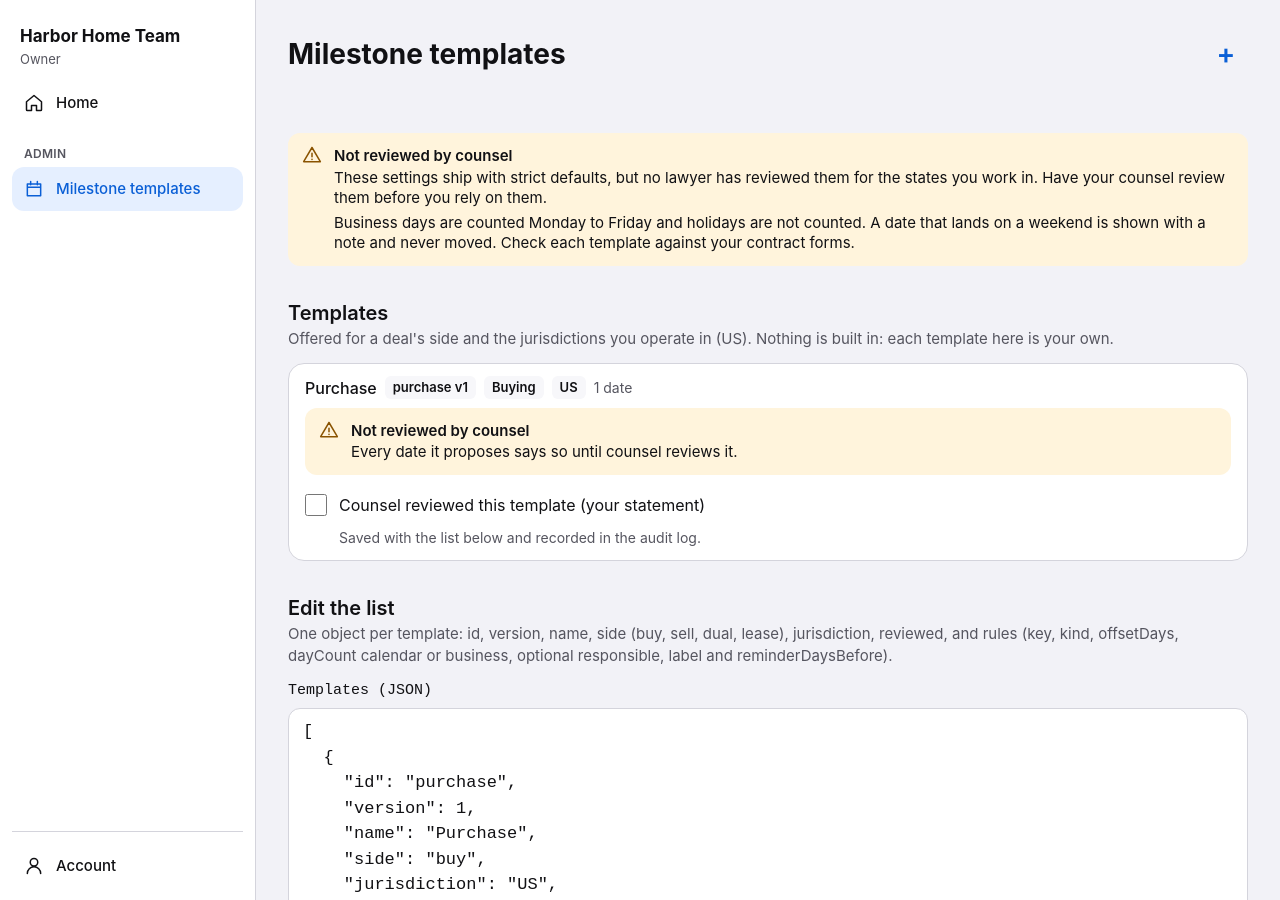
Test: milestone templates page › R-AUDIT-5: the counsel statement is a checkbox saved with the list; a refusal lists the bad entries and saves nothing
Click the checkbox labelled "Counsel reviewed this template (your statement)". click: (316, 505)
box: [305,494,327,516]
(page scrolled)
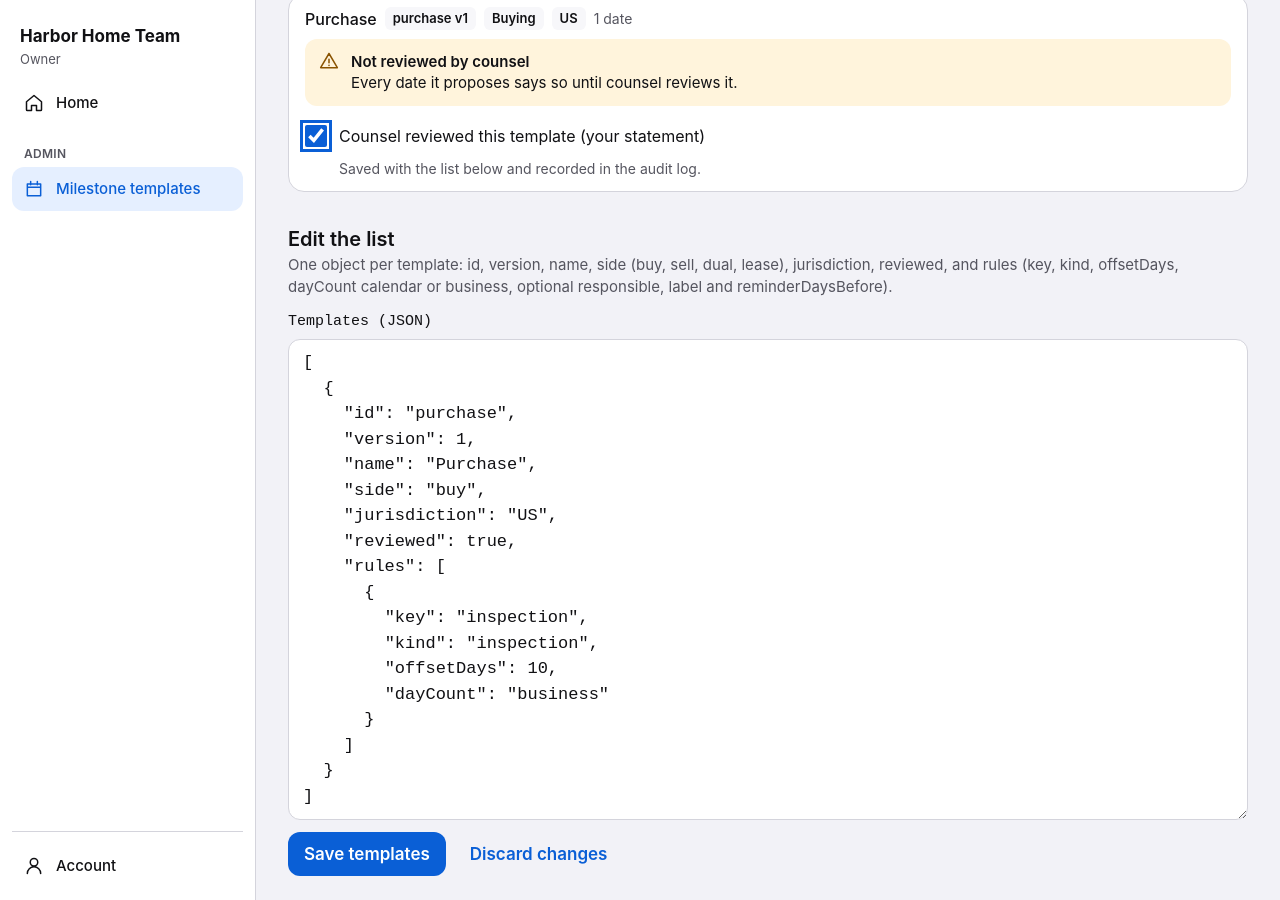
Click the button "Save templates". click: (367, 854)
box: [288,832,446,876]
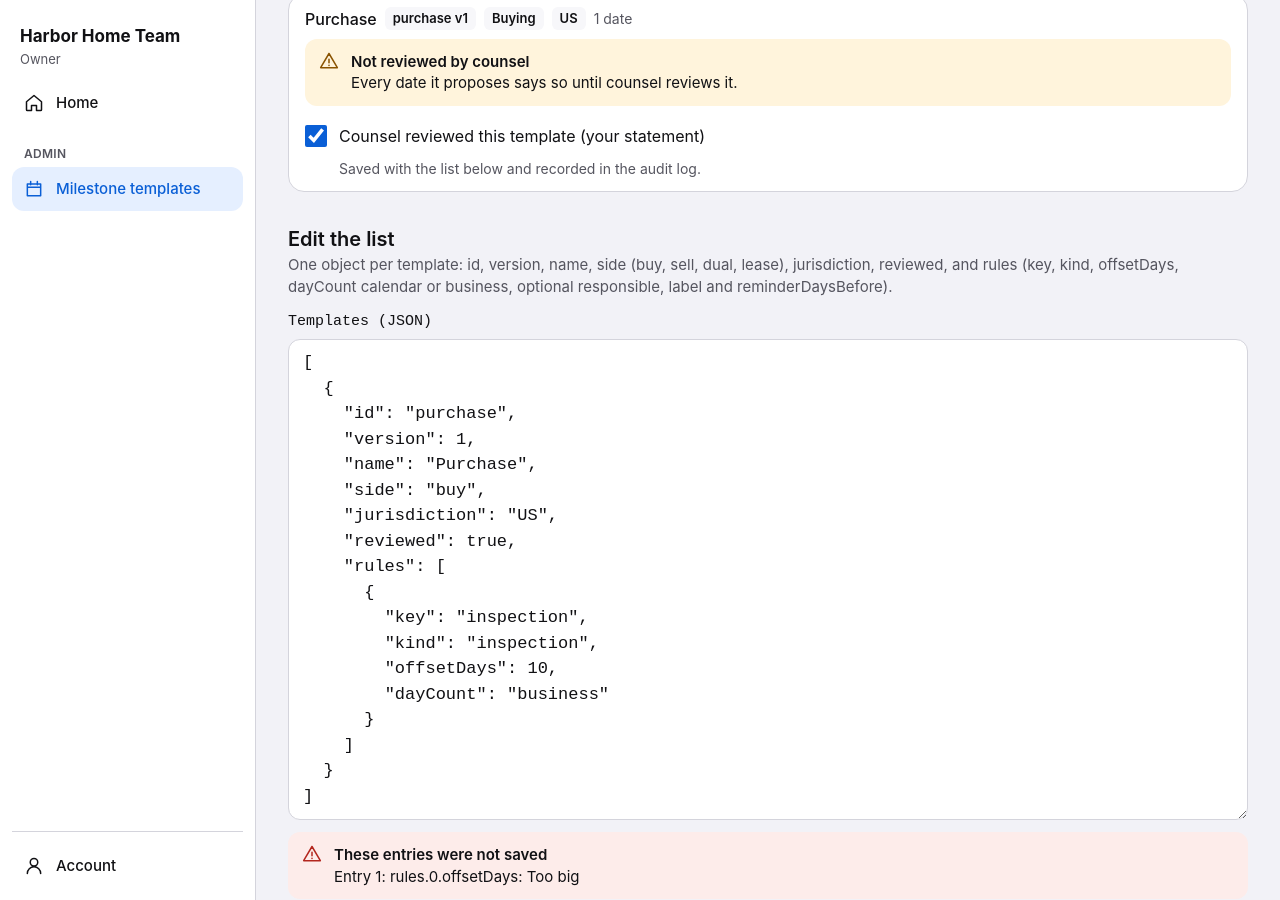
Expected: the list item "Entry 1: rules.0.offsetDays: Too big" is shown, [334,867,580,886]
